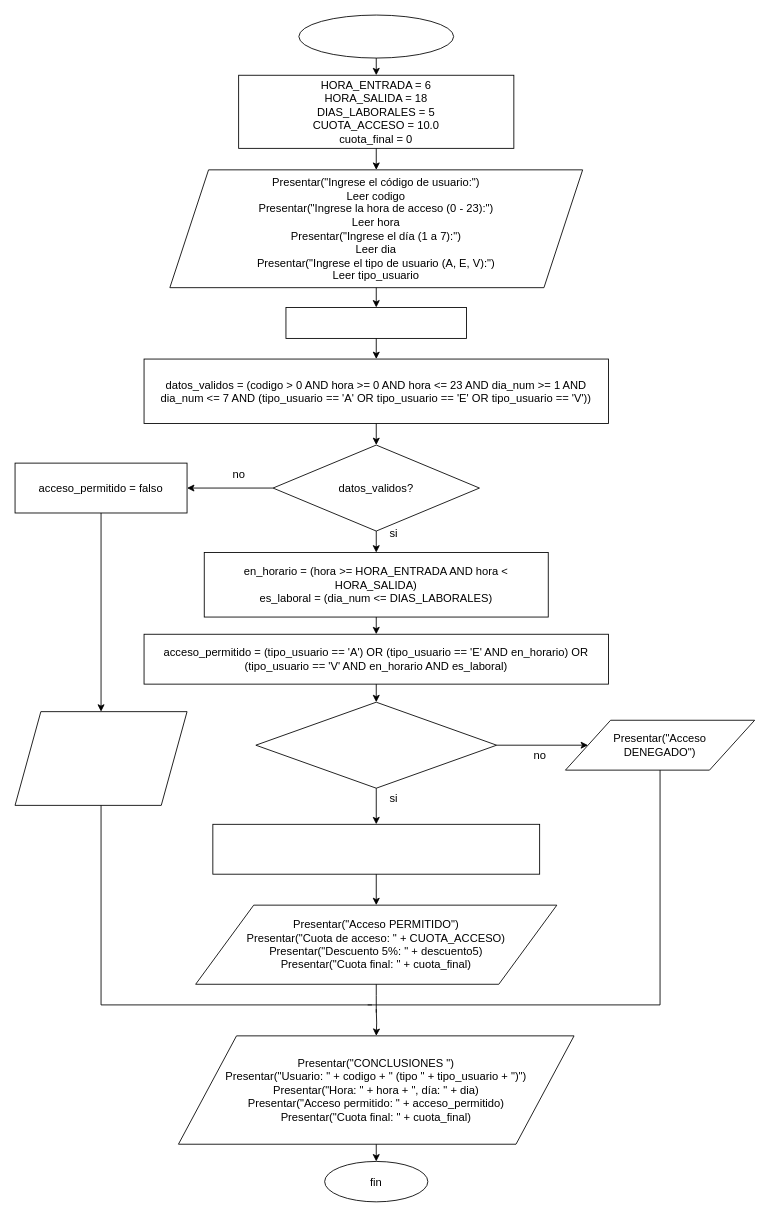
Some shapes in this 770 by 1217 pixel diagram are drawn without their labels. Each missing label, with the box of its shape:
acceso_permitido?: (255, 701, 497, 788)
descuento5 = CUOTA_ACCESO * 0.05 cuota_final = CUOTA_ACCESO - descuento5: (212, 823, 540, 874)
dia_num = dia - '0': (285, 307, 467, 338)
inicio: (298, 14, 454, 58)
Presentar("Error: datos inválidos. Revise código, hora, día y tipo."): (14, 711, 187, 805)
